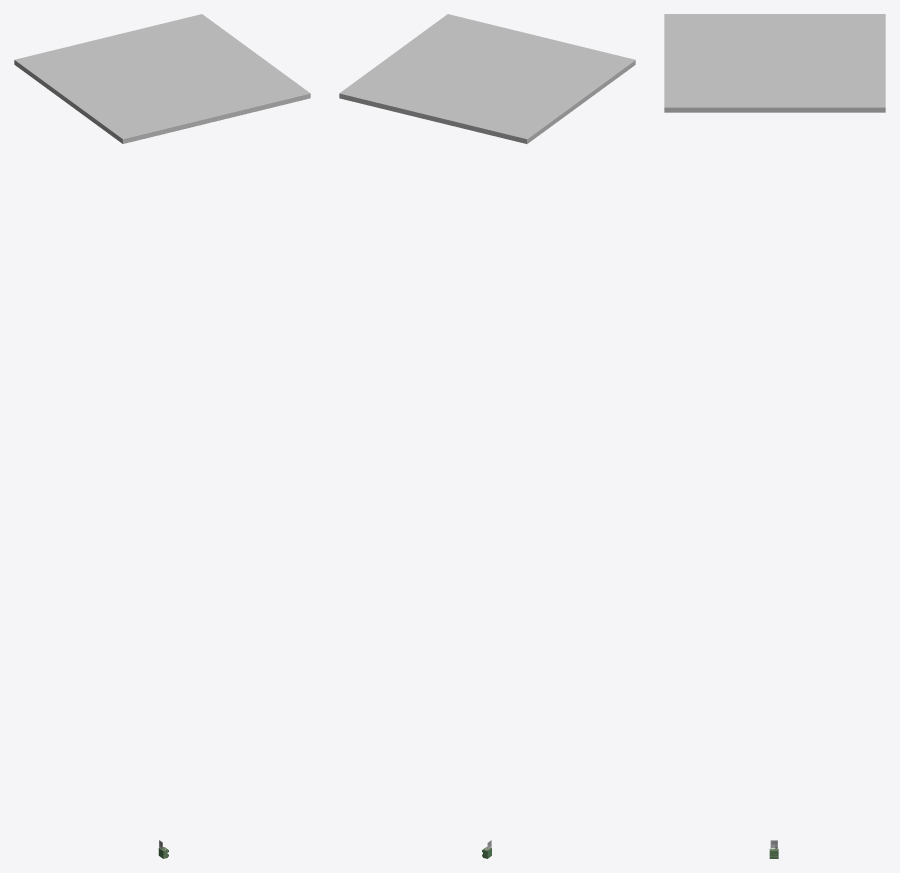
The model's file is espejo.obj.
The picture shows the model from 3 angles, left to right: view 1: azimuth 30°, elevation 25°; view 2: azimuth 150°, elevation 25°; view 3: azimuth 270°, elevation 25°; orthographic projection. The views are drawn at different scales.
Parts seen in each view (by area): view 1: ligne_roset_Aphrodite:ligne_roset_Aphrodite_154_color14; view 2: ligne_roset_Aphrodite:ligne_roset_Aphrodite_154_color14; view 3: ligne_roset_Aphrodite:ligne_roset_Aphrodite_154_color14.
Boxes of the visible parts, x1,y1,x2,y2 form: ligne_roset_Aphrodite:ligne_roset_Aphrodite_154_color14: (14,14,310,143); ligne_roset_Aphrodite:ligne_roset_Aphrodite_154_color14: (339,14,635,143); ligne_roset_Aphrodite:ligne_roset_Aphrodite_154_color14: (664,14,885,112).
Bounding box in the file's own units: 38.6 × 153 × 38.6.
